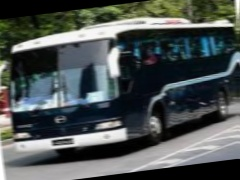bus: (1, 6, 240, 166)
